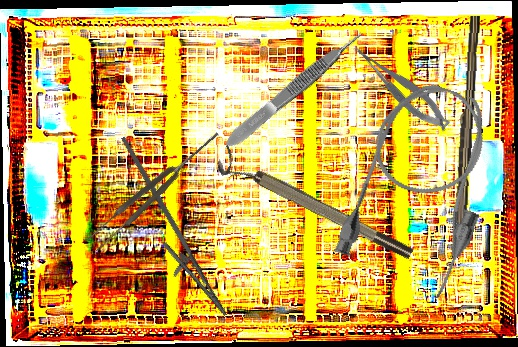Cannula: (330, 71, 515, 303)
Fixation Ring: (213, 144, 416, 272)
Micro Scissor: (349, 33, 455, 141)
Needle Holder: (88, 135, 248, 327)
Scalpel Handle: (451, 15, 481, 242)
Tissue Forceps: (220, 25, 370, 153), (84, 126, 226, 253)
